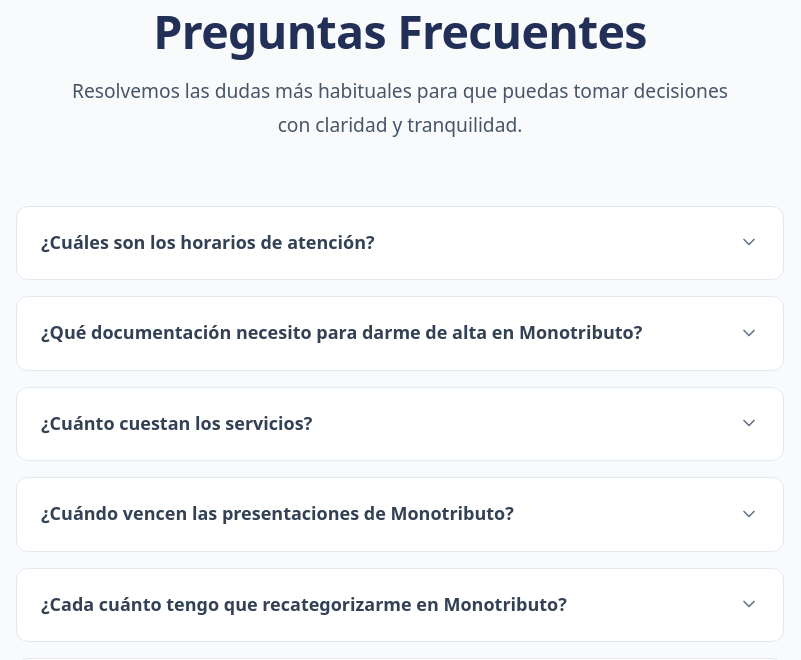
Scenario: Componente FAQ › expande y colapsa un ítem al hacer clic
Step 1. Click the button "¿Cuáles son los horarios de atención?" → (208, 242), box [17, 207, 783, 278]
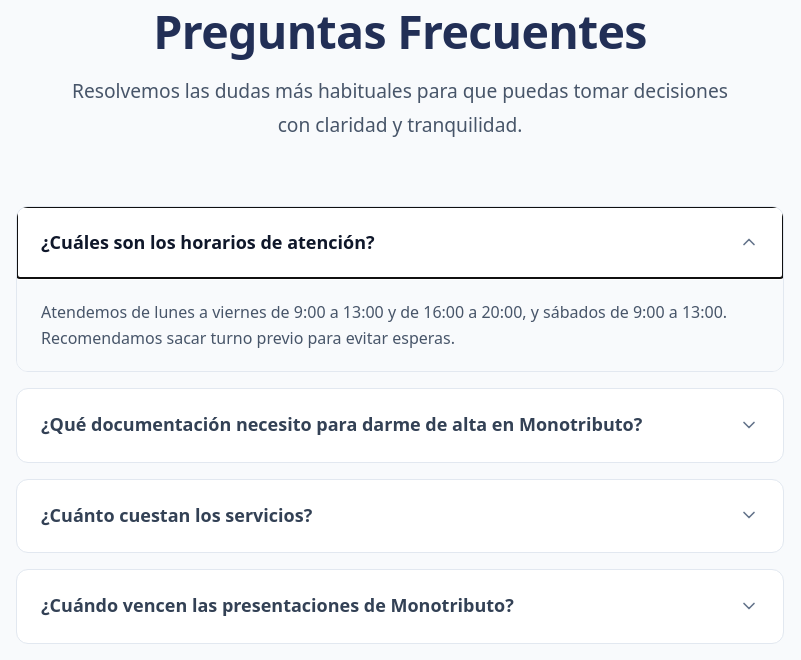
Expected: the button "¿Cuáles son los horarios de atención?" is expanded
Step 2. Click the button "¿Cuáles son los horarios de atención?" → (208, 242), box [17, 207, 783, 278]
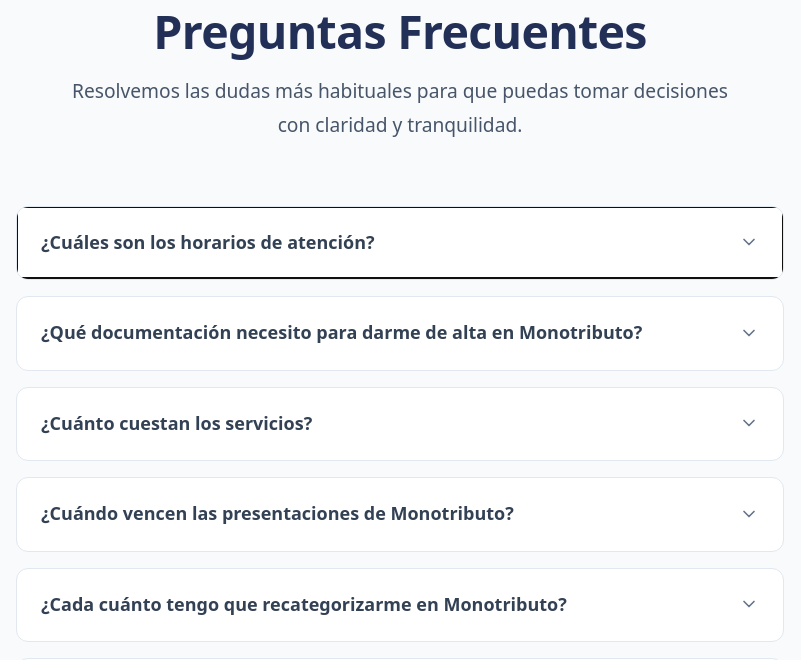
Expected: the button "¿Cuáles son los horarios de atención?" is collapsed, [17, 207, 783, 278]
